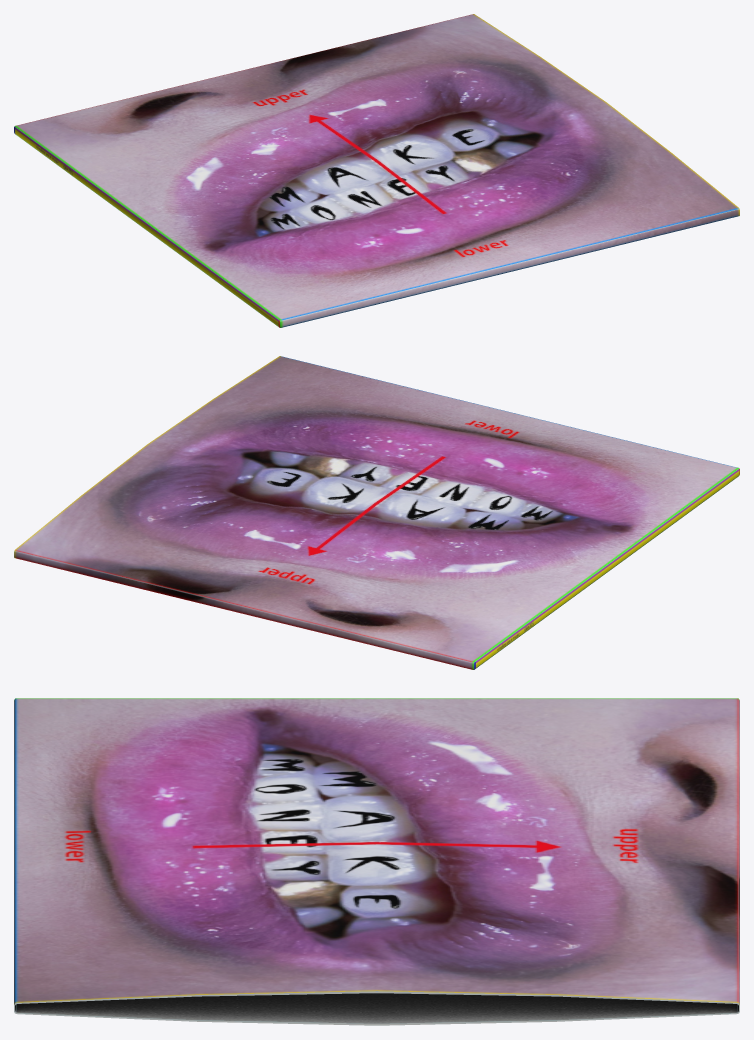
File: sleeve_12_double.dae
3 renders of one model, top to bottom at view 1: azimuth 30°, elevation 25°; view 2: azimuth 150°, elevation 25°; view 3: azimuth 270°, elevation 25°, orthographic. The views are drawn at different scales.
Visible parts, largest first — view 1: _5mm_sleeve_tawami_ari_polygon_original_unify.1; view 2: _5mm_sleeve_tawami_ari_polygon_original_unify.1; view 3: _5mm_sleeve_tawami_ari_polygon_original_unify.1.
Part boxes in pixels (x1,y1,x2,y2): _5mm_sleeve_tawami_ari_polygon_original_unify.1: (14, 14, 739, 327); _5mm_sleeve_tawami_ari_polygon_original_unify.1: (14, 356, 739, 669); _5mm_sleeve_tawami_ari_polygon_original_unify.1: (14, 698, 739, 1025).
Size of the model in its own units: 31.18 by 1.65 by 31.3.
Materials: 1 (1 with a texture image).
